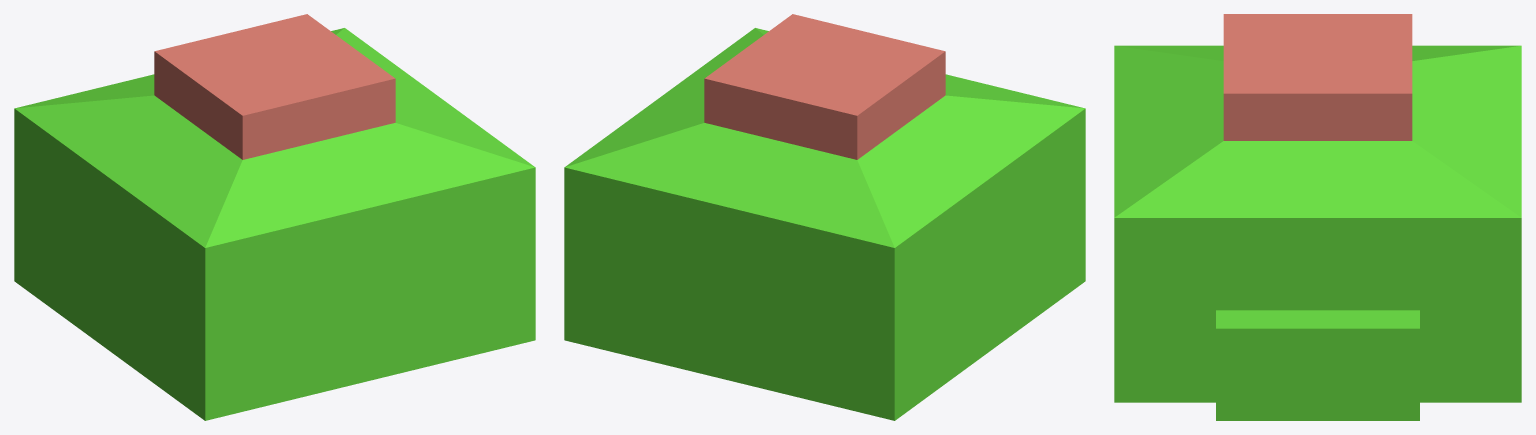
The model's file is main base.fbx.
3 views of the same model, side by side, from view 1: azimuth 30°, elevation 25°; view 2: azimuth 150°, elevation 25°; view 3: azimuth 270°, elevation 25° (orthographic). The views are drawn at different scales.
Visible parts, largest first — view 1: Cube, Cube.001; view 2: Cube, Cube.001; view 3: Cube, Cube.001.
Part boxes in pixels (x1,y1,x2,y2): Cube: (14,28,535,420); Cube.001: (154,14,395,159); Cube: (564,28,1085,420); Cube.001: (704,14,945,159); Cube: (1114,45,1521,420); Cube.001: (1223,14,1412,140).
Size of the model in its own units: 664 by 427 by 600.
